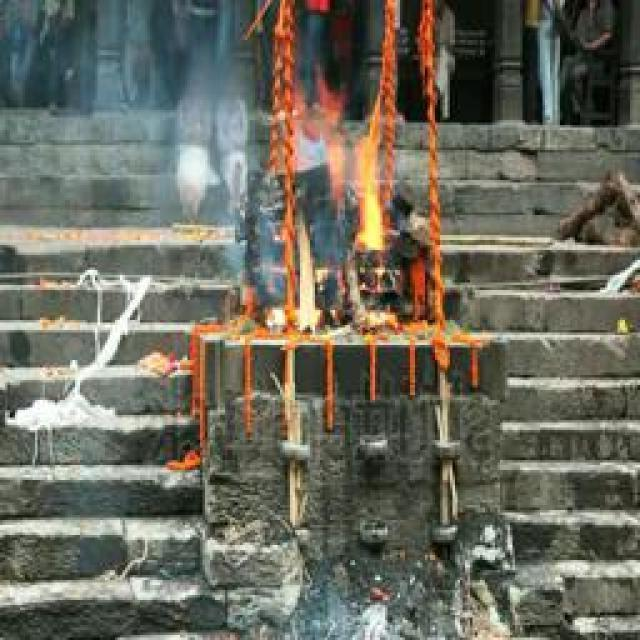Fire: (264, 80, 388, 332)
